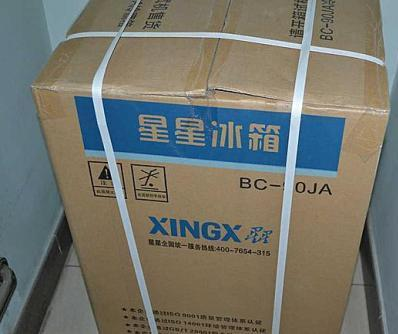cardboard: (33, 0, 397, 332)
